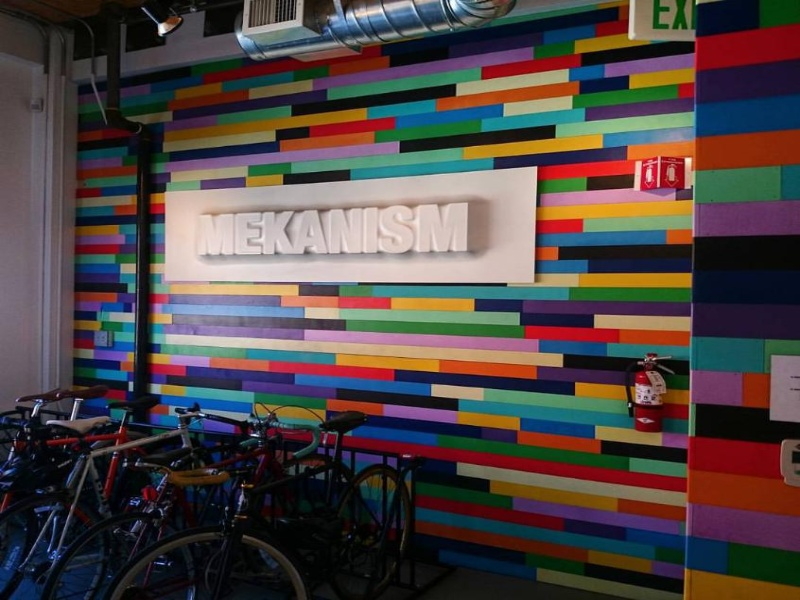bicycle: (3, 378, 431, 597)
